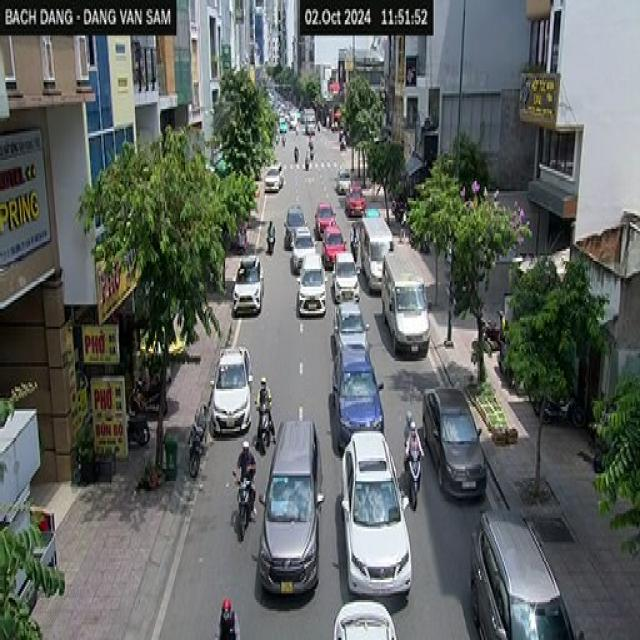car: (468, 509, 578, 638), (340, 429, 411, 598), (258, 416, 324, 596), (422, 384, 486, 500), (208, 344, 252, 436), (332, 598, 397, 638), (231, 253, 264, 316)
motorcycle: (231, 469, 254, 540), (188, 424, 204, 478)
person: (404, 420, 424, 509), (235, 438, 256, 516), (254, 376, 276, 446), (218, 598, 240, 638), (266, 218, 275, 251)
